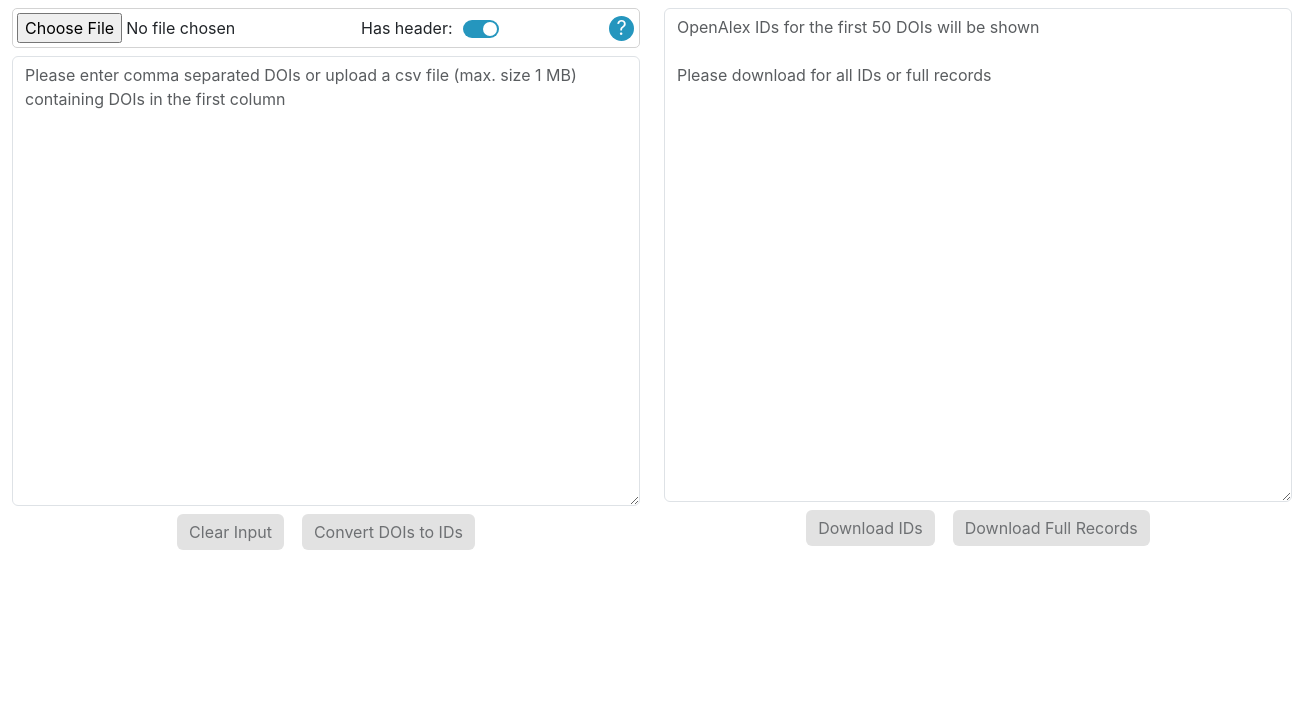
Home Component › clears input box when "Clear Input" button is clicked
The image size is (1304, 720).
Type something into input box
Step 1. Replace the text in the text box with placeholder "Please enter comma separated DOIs or upload a csv file (max. size 1 MB) containing DOIs in the first column" with "https://doi.org/10.48550/ARXIV.2406.15154, 10.7717/peerj.4375, https://doi.org/10.5210/fm.v15i7.2874" → (326, 281), box [12, 56, 640, 506]
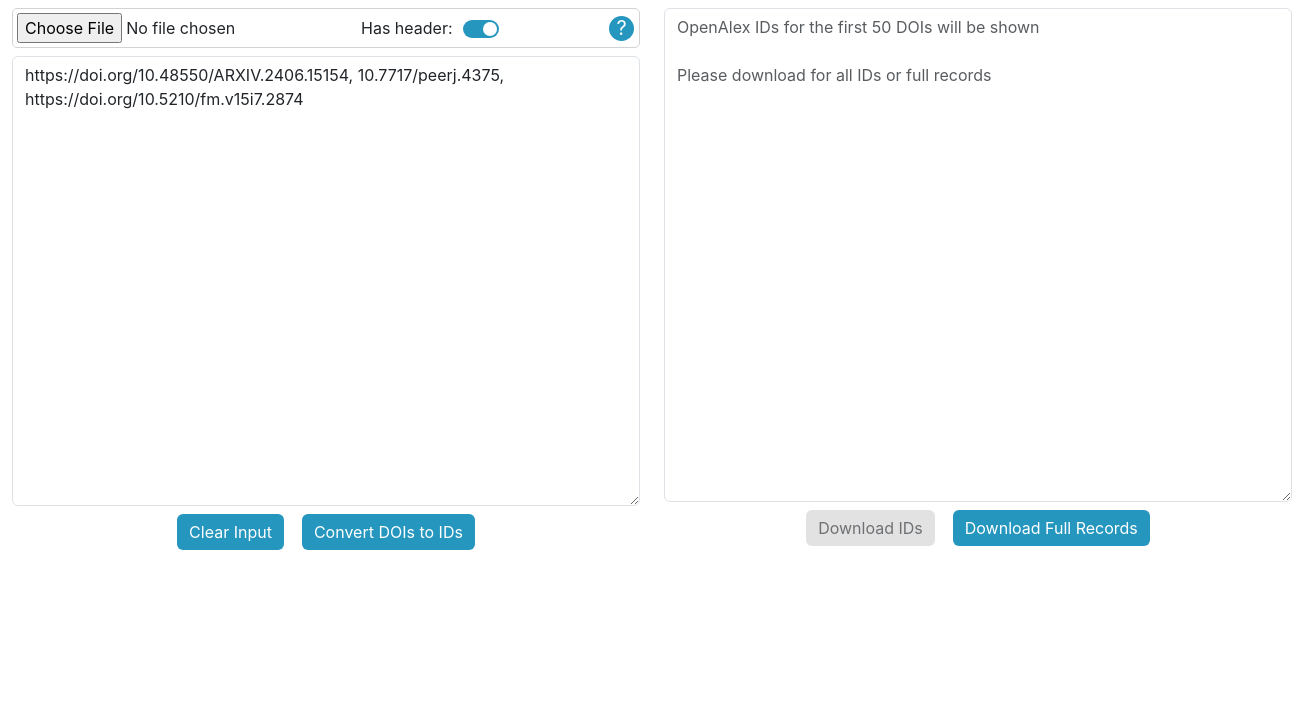
Click "Clear Input" button
Step 2. Click the button "Clear Input" → (230, 532), box [177, 514, 284, 550]
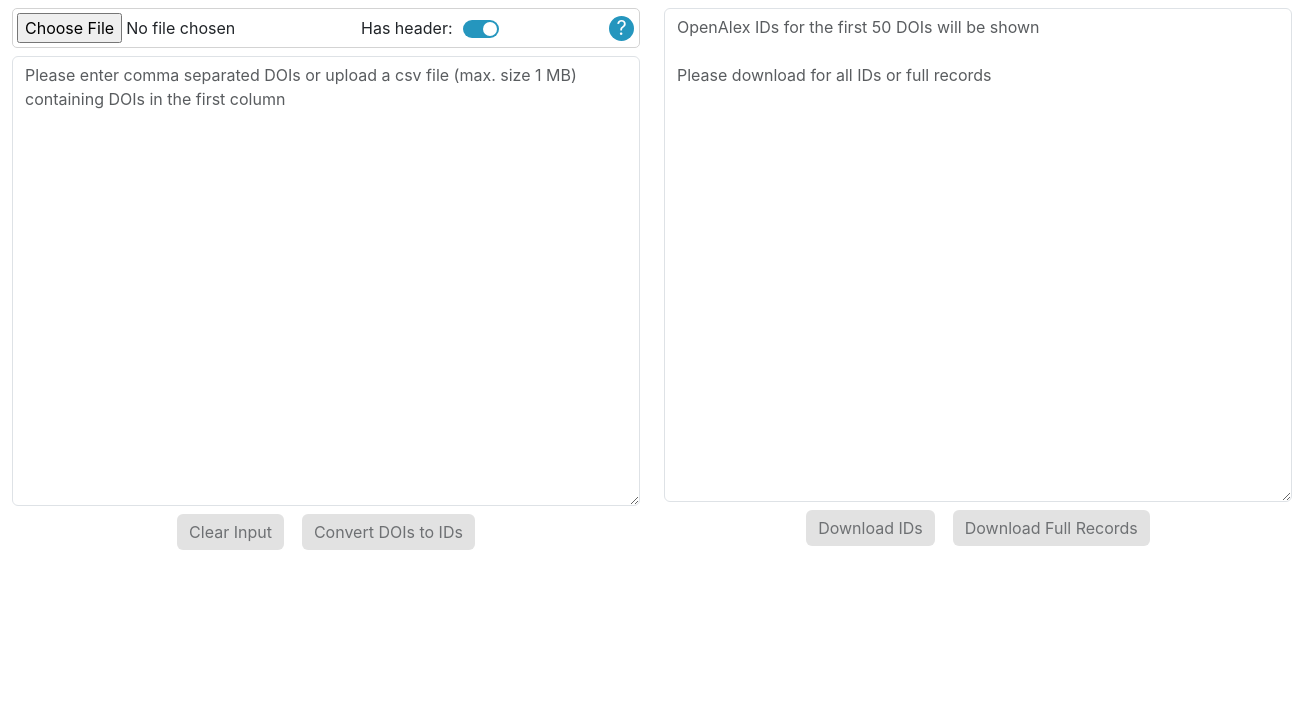
Check: the text box with placeholder "Please enter comma separated DOIs or upload a csv file (max. size 1 MB) containing DOIs in the first column" is empty, box [12, 56, 640, 506]
